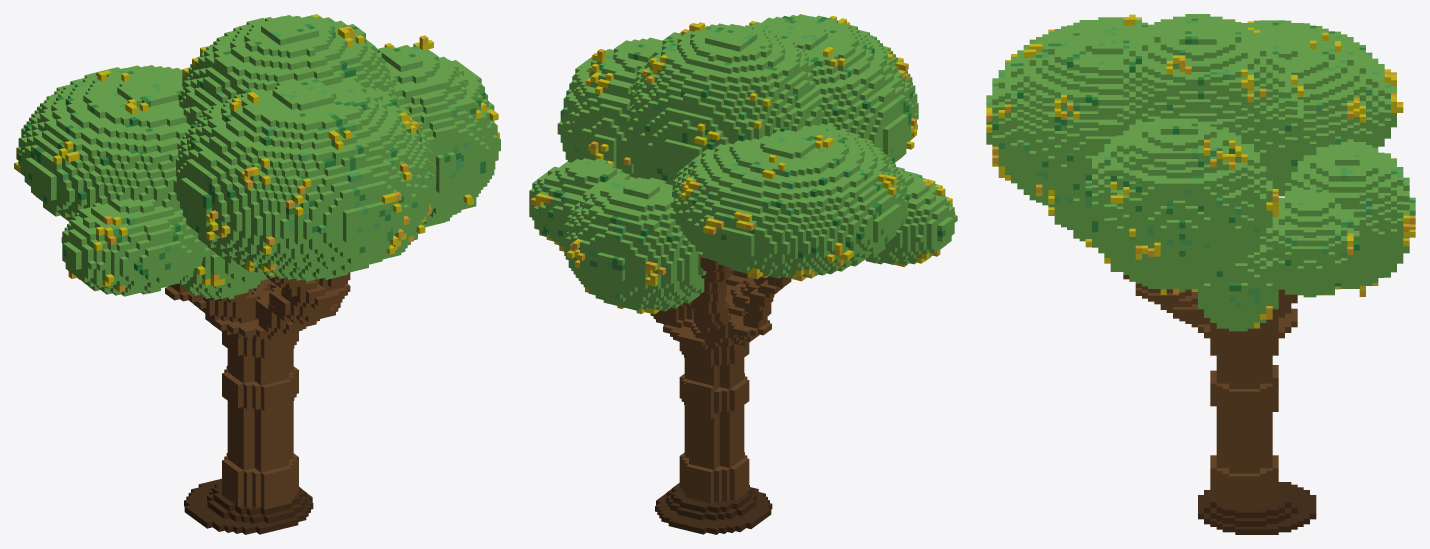
File: 1_1 caja.obj
The picture shows the model from 3 angles, left to right: view 1: azimuth 30°, elevation 25°; view 2: azimuth 150°, elevation 25°; view 3: azimuth 270°, elevation 25°; orthographic projection. The views are drawn at different scales.
Size of the model in its own units: 7.4 by 8.6 by 6.9.
Materials: 1 (1 with a texture image).
